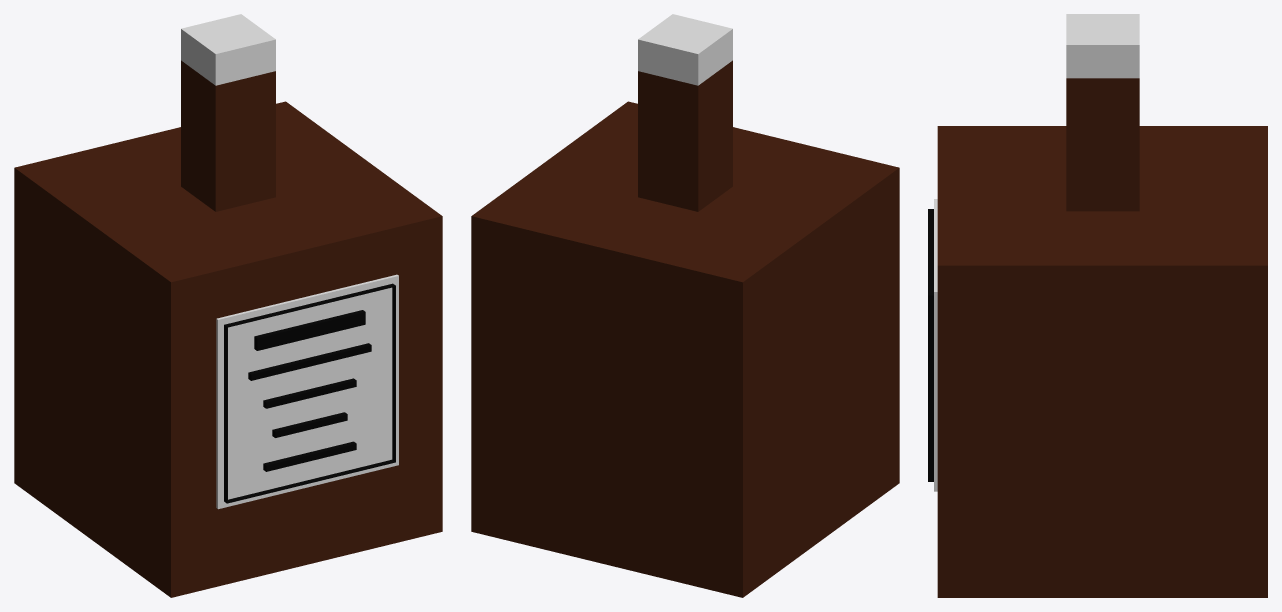
Rendered from OilBottle.fbx.
3 views of the same model, side by side, from view 1: azimuth 30°, elevation 25°; view 2: azimuth 150°, elevation 25°; view 3: azimuth 270°, elevation 25° (orthographic). The views are drawn at different scales.
Parts seen in each view (by area): view 1: Cube.002, Cube.001, Cube.004, Cube.003, Cube.005, Cube.007, Cube.006, Cube.008, Cube.010, Cube.009; view 2: Cube.002, Cube.004, Cube.003; view 3: Cube.002, Cube.004, Cube.003, Cube.005, Cube.001.
Boxes of the visible parts, x1,y1,x2,y2 form: Cube.002: [14, 101, 442, 597]; Cube.001: [216, 274, 398, 509]; Cube.004: [181, 60, 275, 211]; Cube.003: [181, 14, 275, 85]; Cube.005: [224, 283, 395, 503]; Cube.007: [254, 310, 365, 350]; Cube.006: [248, 343, 371, 380]; Cube.008: [263, 378, 356, 408]; Cube.010: [263, 441, 356, 471]; Cube.009: [272, 412, 347, 437]; Cube.002: [471, 101, 899, 597]; Cube.004: [638, 60, 732, 211]; Cube.003: [638, 14, 732, 85]; Cube.002: [937, 126, 1267, 597]; Cube.004: [1066, 78, 1139, 211]; Cube.003: [1066, 14, 1139, 78]; Cube.005: [928, 209, 933, 481]; Cube.001: [934, 199, 937, 491].
Bounding box in the file's own units: 108 × 180 × 111.
